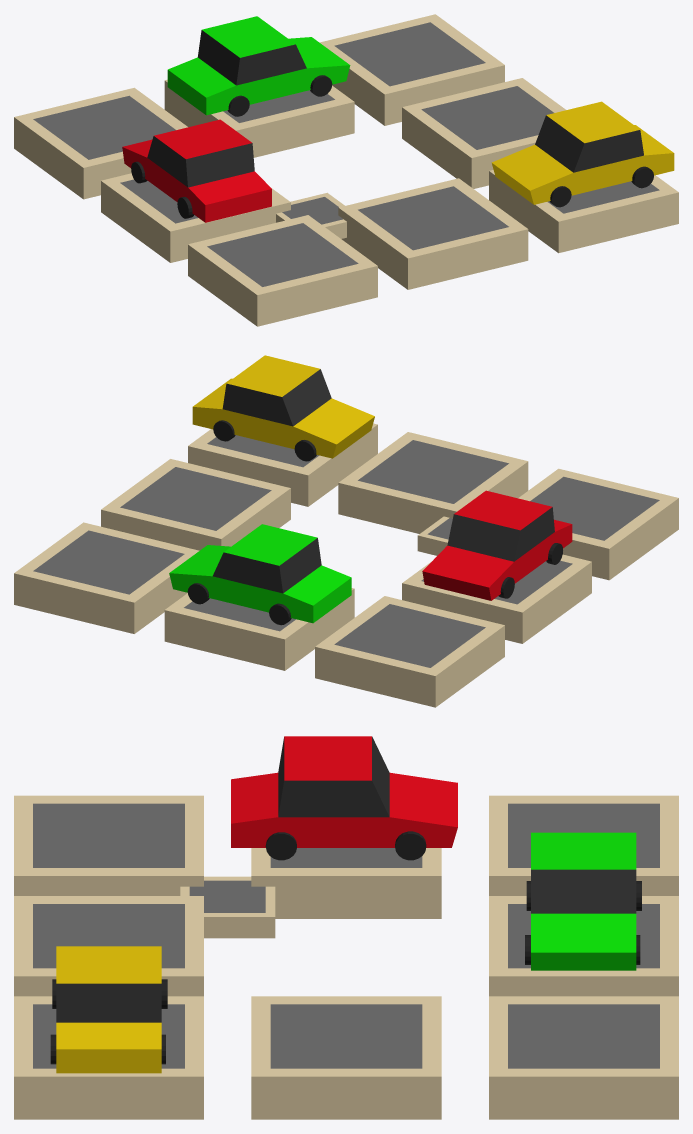
File: EkhayaGo.glb
3 renders of one model, top to bottom at view 1: azimuth 30°, elevation 25°; view 2: azimuth 150°, elevation 25°; view 3: azimuth 270°, elevation 25°, orthographic. The views are drawn at different scales.
Parts seen in each view (by area): view 1: Tile1, Tile2, Tile5, Car3, Car, Tile7, Tile4, Car2, Tile3, Tile6, Tile8, Tile; view 2: Tile7, Tile5, Tile2, Tile4, Car3, Car, Car2, Tile1, Tile6, Tile8, Tile3, Tile; view 3: Tile4, Tile5, Car2, Tile1, Car, Tile3, Car3, Tile2, Tile7, Tile8, Tile6, Tile.
Boxes of the visible parts, box(x1,y1,x2,y2) form: Tile1: box(188, 215, 377, 326); Tile2: box(338, 178, 528, 289); Tile5: box(319, 14, 504, 125); Car3: box(491, 101, 674, 207); Car: box(167, 16, 350, 116); Tile7: box(14, 87, 187, 199); Tile4: box(402, 78, 566, 188); Car2: box(122, 119, 271, 222); Tile3: box(489, 170, 678, 253); Tile6: box(164, 79, 354, 157); Tile8: box(101, 173, 290, 262); Tile: box(276, 192, 346, 238); Tile7: box(315, 596, 504, 707); Tile5: box(14, 522, 199, 633); Tile2: box(338, 432, 528, 533); Tile4: box(101, 459, 290, 550); Car3: box(192, 355, 374, 461); Car: box(169, 524, 351, 625); Car2: box(422, 490, 572, 600); Tile1: box(518, 468, 678, 580); Tile6: box(164, 588, 354, 670); Tile8: box(402, 554, 591, 643); Tile3: box(188, 423, 377, 506); Tile: box(417, 516, 452, 555); Tile4: box(251, 996, 441, 1119); Tile5: box(489, 996, 678, 1119); Car2: box(231, 736, 457, 860); Tile1: box(14, 795, 203, 895); Car: box(525, 832, 641, 970); Tile3: box(14, 996, 203, 1119); Car3: box(50, 946, 167, 1073); Tile2: box(14, 896, 203, 996); Tile7: box(489, 795, 678, 895); Tile8: box(251, 848, 441, 918); Tile6: box(489, 896, 678, 996); Tile: box(180, 876, 275, 938).
Size of the model in its own units: 11.49 by 2.24 by 11.2.
